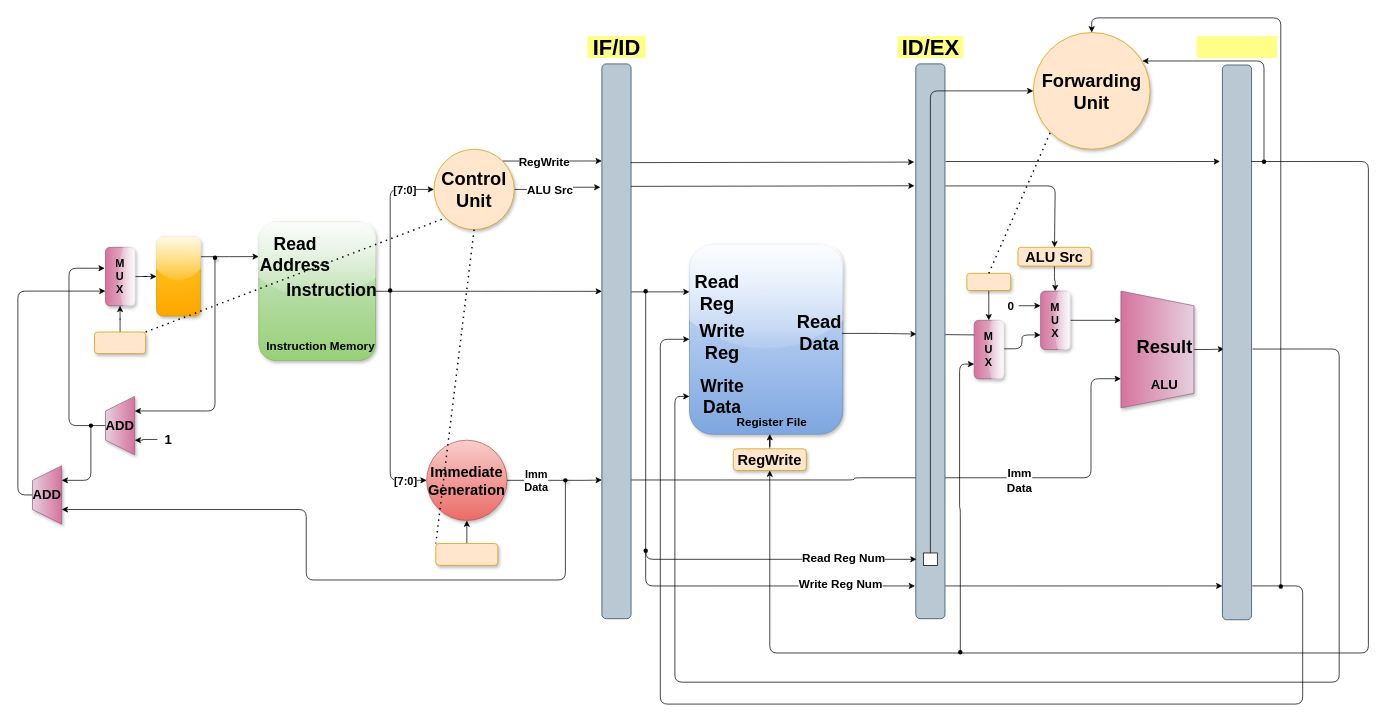
The diagram is 1387 pixels wide and 723 high, and some of its shapes have lost their labels. The shapes that lost their labels are listed below. From the top down, each one's centre as x and y in pixels, then its label:
pixel 1236 47: EX/WB
pixel 179 277: PC
pixel 989 283: Fwd
pixel 120 343: PC Src
pixel 467 555: Imm Sel
